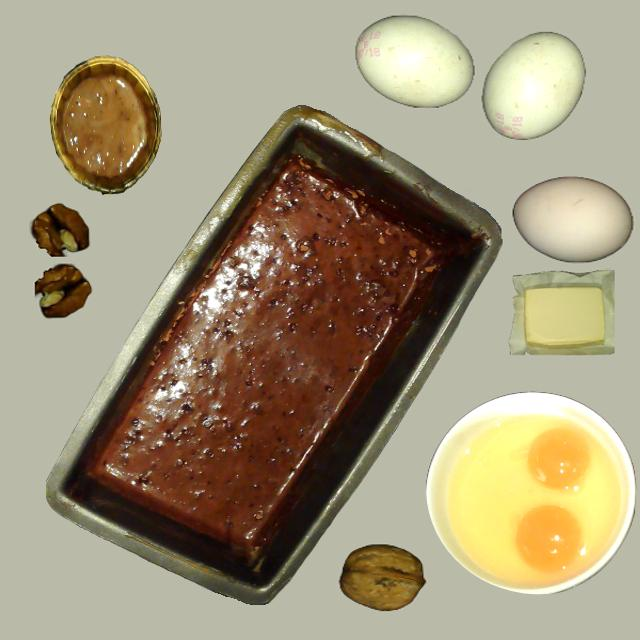Egg: (454, 419, 614, 580)
Walnut: (332, 532, 433, 629)
